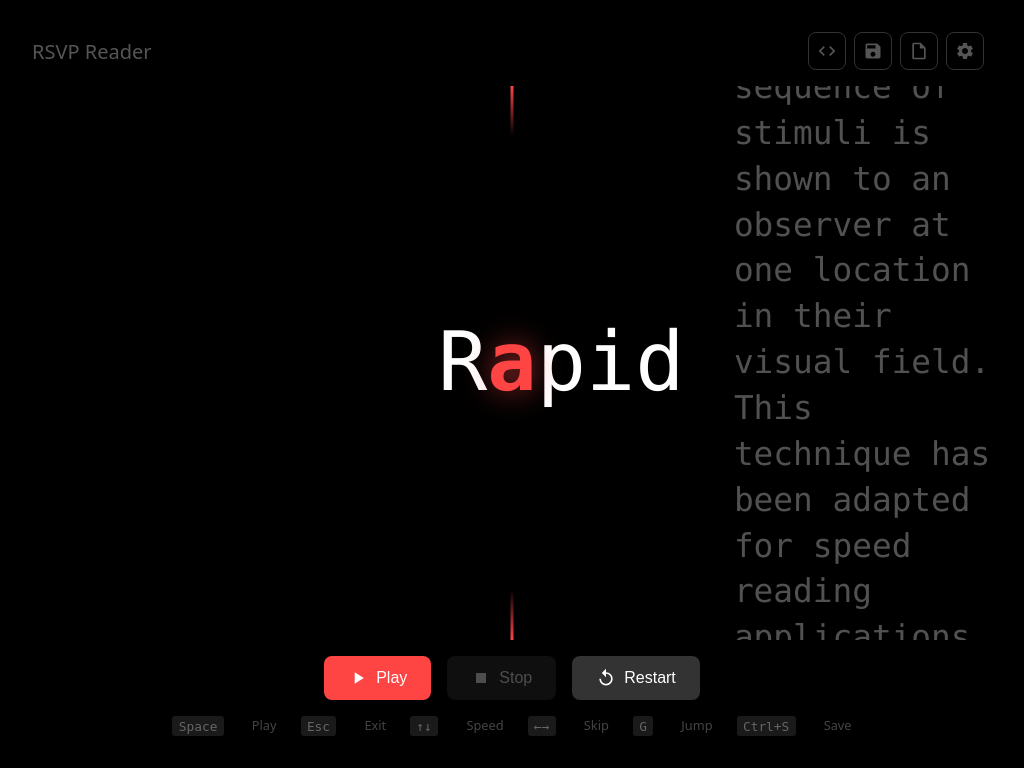
Restart › starts right away when nothing is saved
Click the button titled "Restart". click: (636, 678)
box: [572,656,700,700]
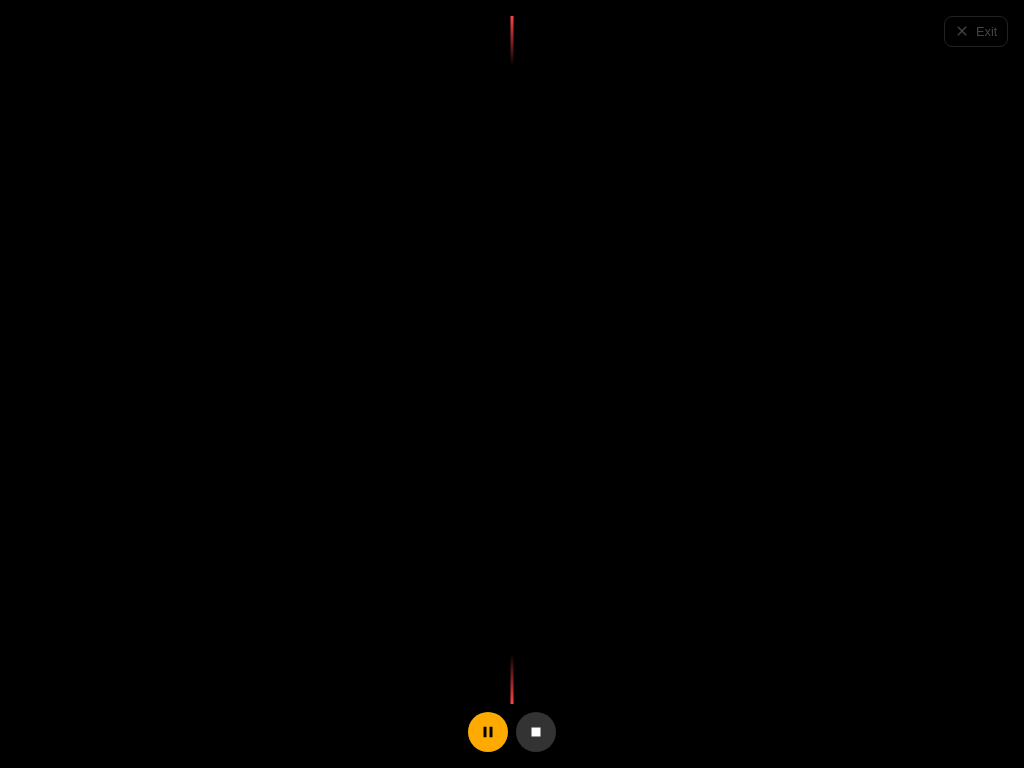
Result: the heading "RSVP Reader" is gone
